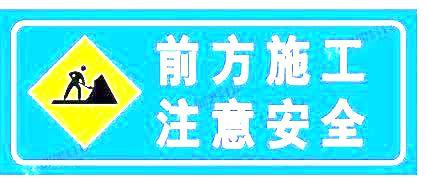sign: (3, 18, 411, 169)
